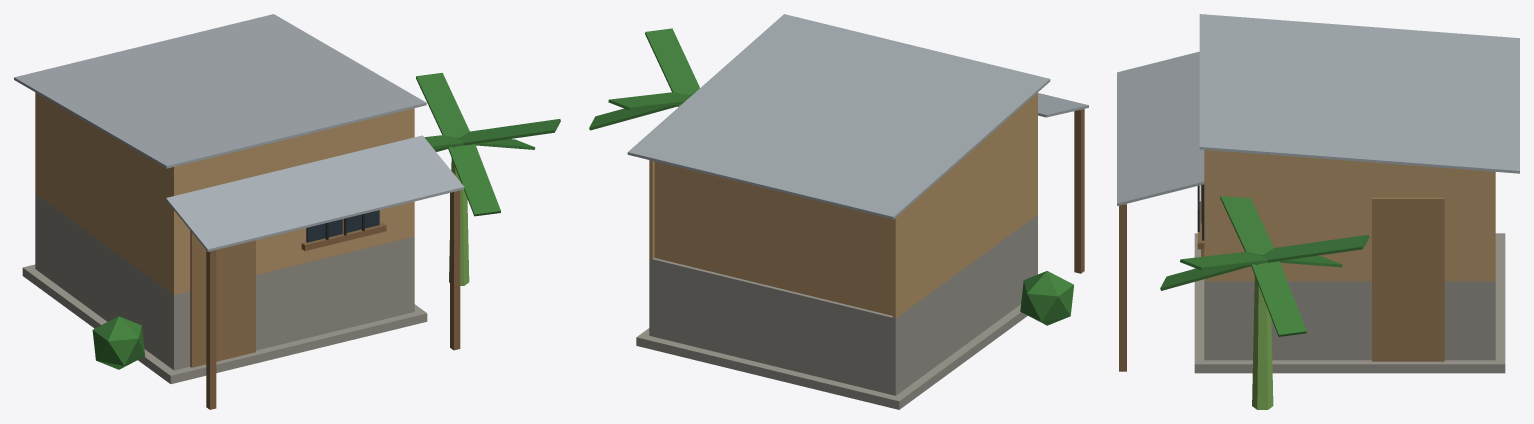
File: BAY_I_SariSari_N.glb
3 views of the same model, side by side, from view 1: azimuth 30°, elevation 25°; view 2: azimuth 150°, elevation 25°; view 3: azimuth 270°, elevation 25° (orthographic). The views are drawn at different scales.
Visible parts, largest first — view 1: BAY_I_SariSari_N; view 2: BAY_I_SariSari_N; view 3: BAY_I_SariSari_N.
Boxes of the visible parts, x1,y1,x2,y2 form: BAY_I_SariSari_N: [14, 14, 560, 409]; BAY_I_SariSari_N: [589, 14, 1088, 409]; BAY_I_SariSari_N: [1117, 14, 1519, 409].
Size of the model in its own units: 5.63 by 2.58 by 4.15.
1 material, 1 textured.
